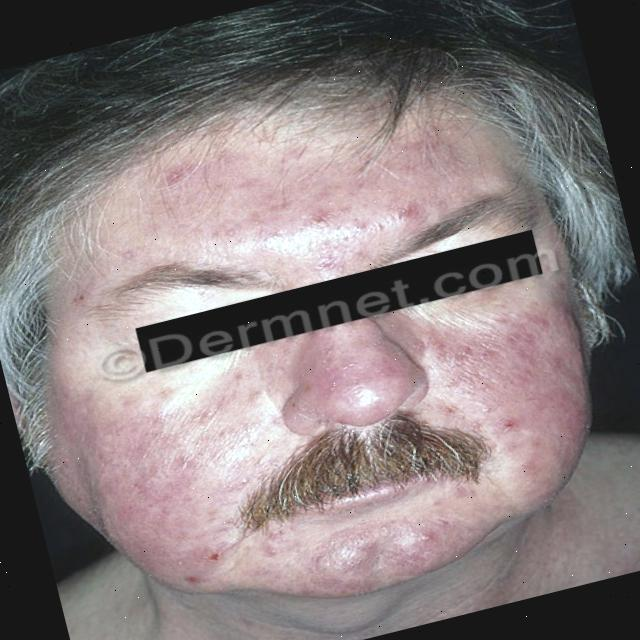skinredness: (87, 60, 622, 612)
